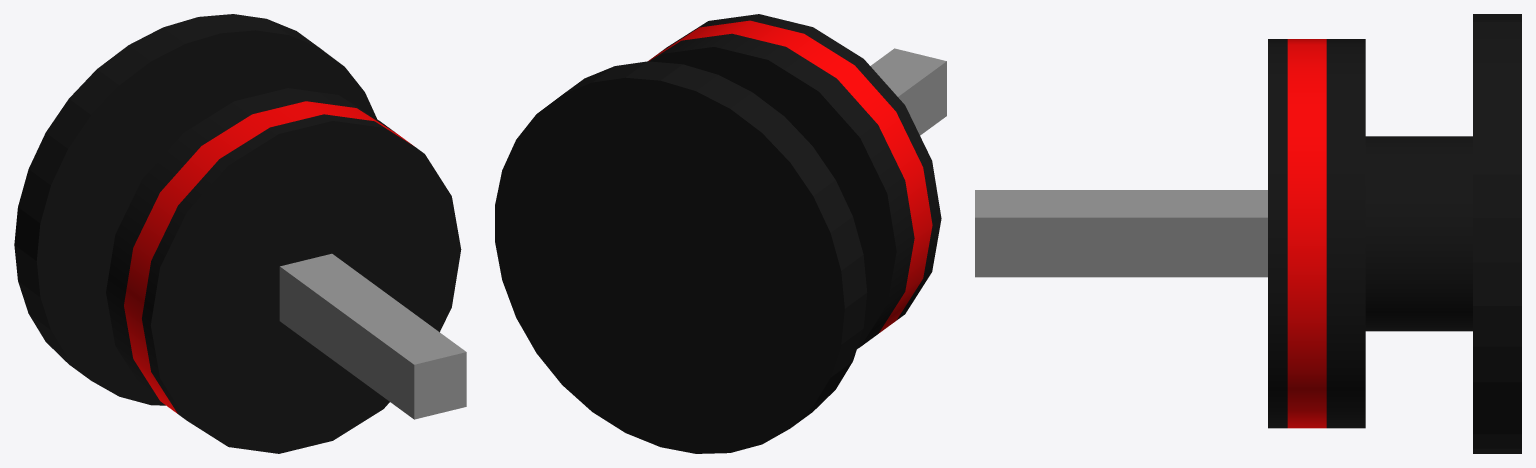
The model's file is valve.DAE.
3 renders of one model, left to right at view 1: azimuth 30°, elevation 25°; view 2: azimuth 150°, elevation 25°; view 3: azimuth 270°, elevation 25°, orthographic. The views are drawn at different scales.
Visible parts, largest first — view 1: Cylinder009-Pivot; view 2: Cylinder009-Pivot; view 3: Cylinder009-Pivot.
Part boxes in pixels (box(x1,y1,x2,y2)): Cylinder009-Pivot: box(14, 14, 466, 453); Cylinder009-Pivot: box(495, 14, 946, 453); Cylinder009-Pivot: box(975, 14, 1521, 453).
Size of the model in its own units: 90.03 by 112 by 90.14.
